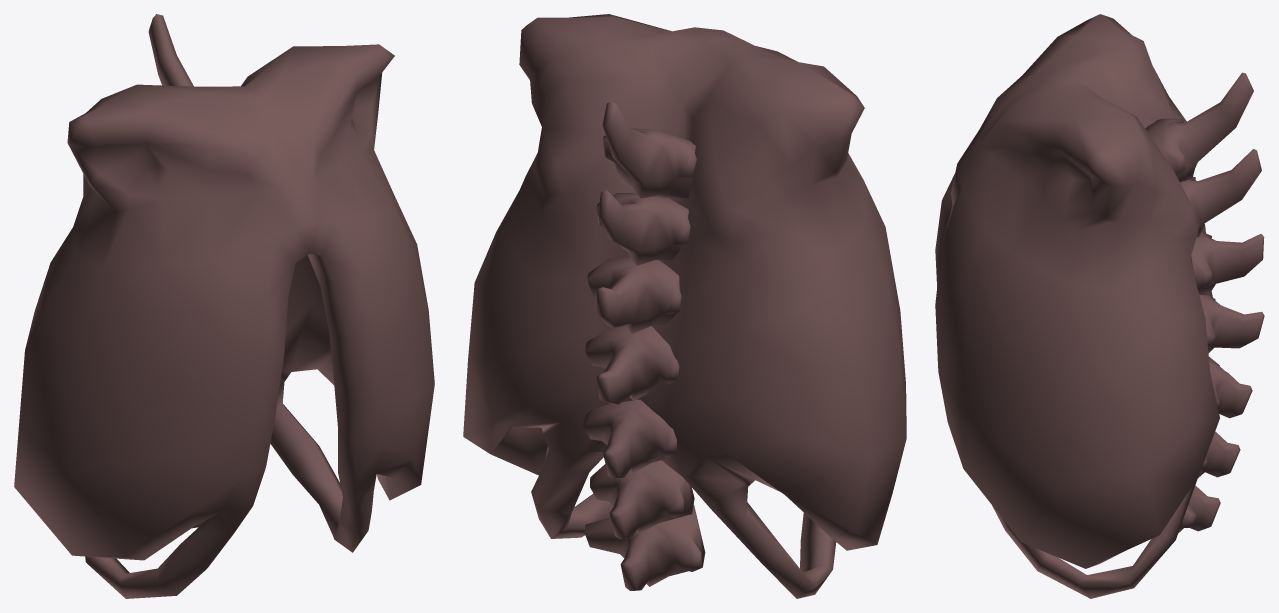
The model's file is SM_DogSkeletonRibcage.FBX.
3 views of the same model, side by side, from view 1: azimuth 30°, elevation 25°; view 2: azimuth 150°, elevation 25°; view 3: azimuth 270°, elevation 25° (orthographic). The views are drawn at different scales.
Visible parts, largest first — view 1: SM_DogSkeletonRibcage; view 2: SM_DogSkeletonRibcage; view 3: SM_DogSkeletonRibcage.
Part boxes in pixels (<box>): SM_DogSkeletonRibcage: <box>14,14,434,598</box>; SM_DogSkeletonRibcage: <box>463,14,906,598</box>; SM_DogSkeletonRibcage: <box>935,14,1264,598</box>.
Bounding box in the file's own units: 58.63 × 73.31 × 46.04.
